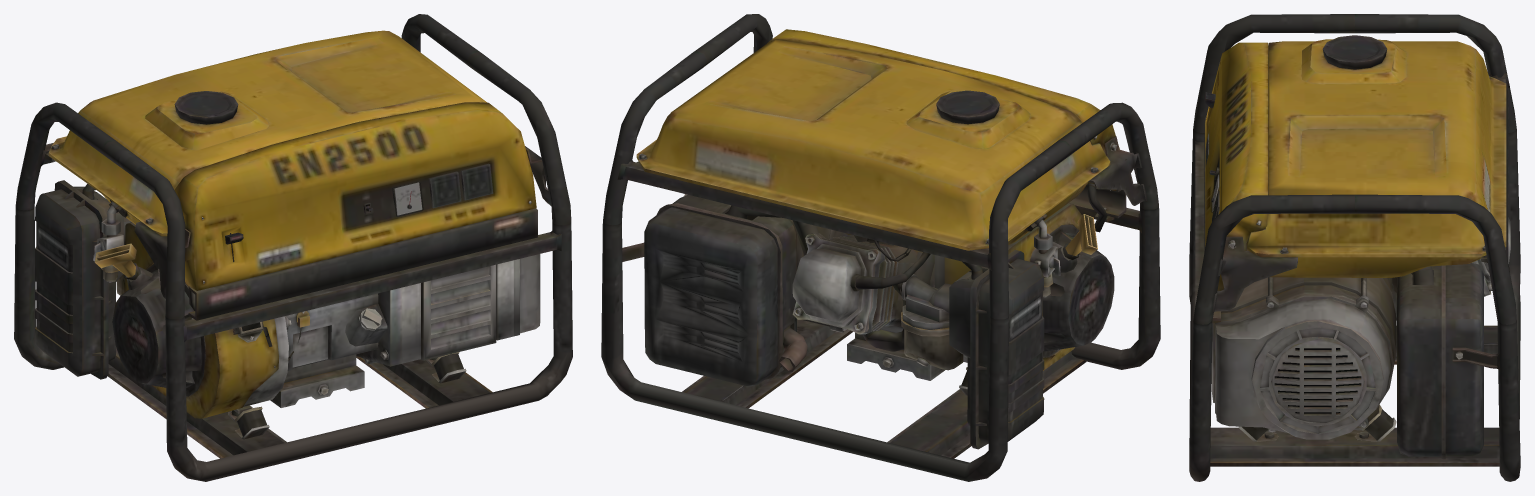
The model's file is portable_generator.gltf.
3 views of the same model, side by side, from view 1: azimuth 30°, elevation 25°; view 2: azimuth 150°, elevation 25°; view 3: azimuth 270°, elevation 25° (orthographic).
Parts seen in each view (by area): view 1: portable_generator; view 2: portable_generator; view 3: portable_generator.
Boxes of the visible parts, x1=… form: portable_generator: x1=14, y1=14, x2=572, y2=481; portable_generator: x1=601, y1=14, x2=1160, y2=481; portable_generator: x1=1189, y1=14, x2=1520, y2=481.
Size of the model in its own units: 0.8169 by 0.5752 by 0.564.
Materials: 2 (2 with a texture image).
